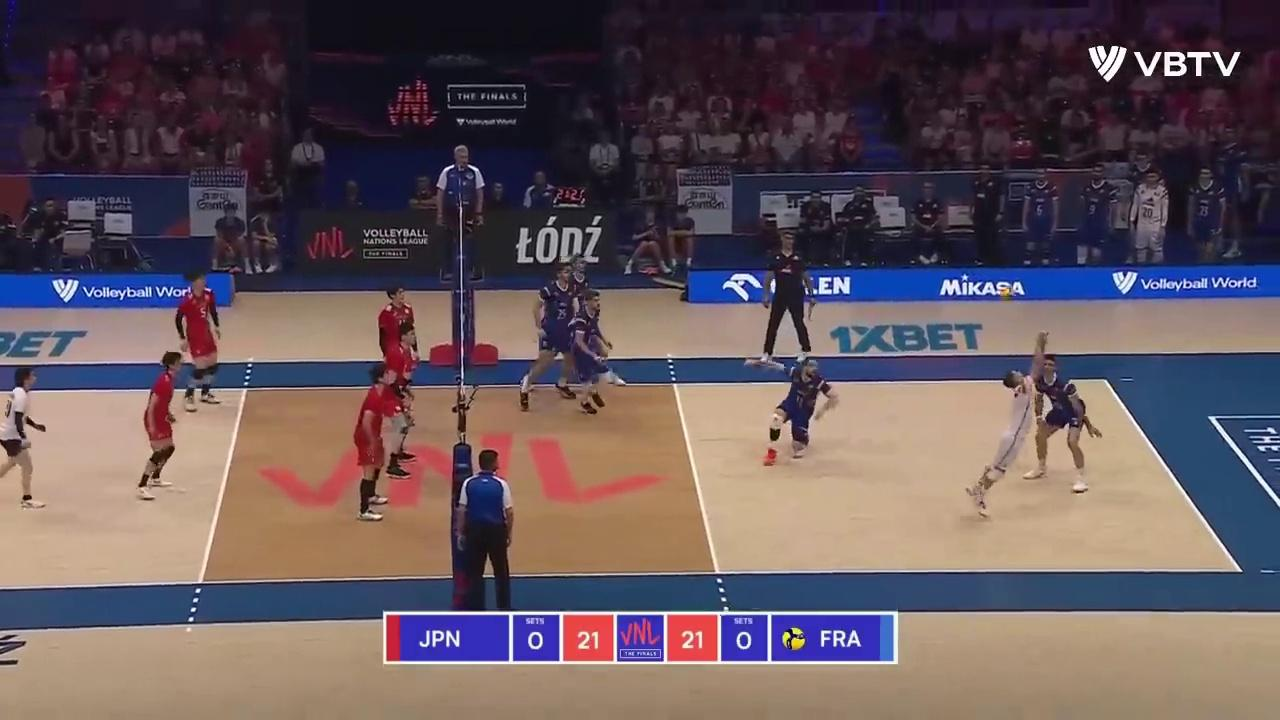ball: (997, 287, 1009, 299)
